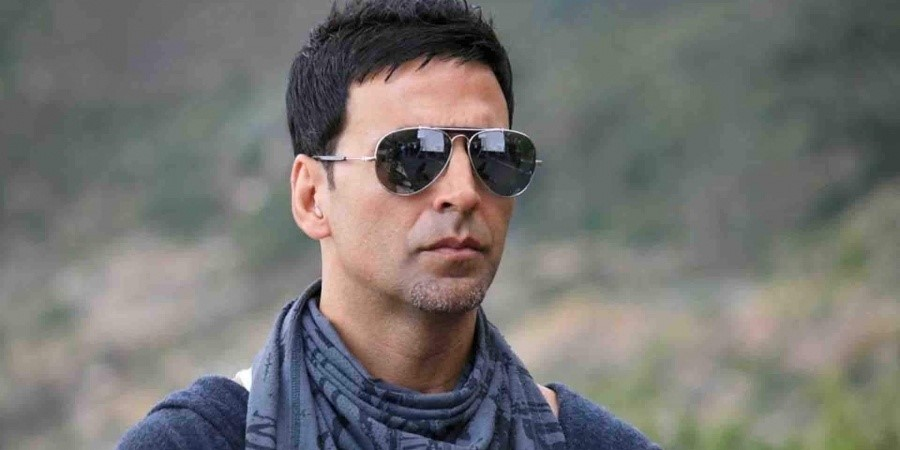face_no_mask: (289, 22, 523, 319)
